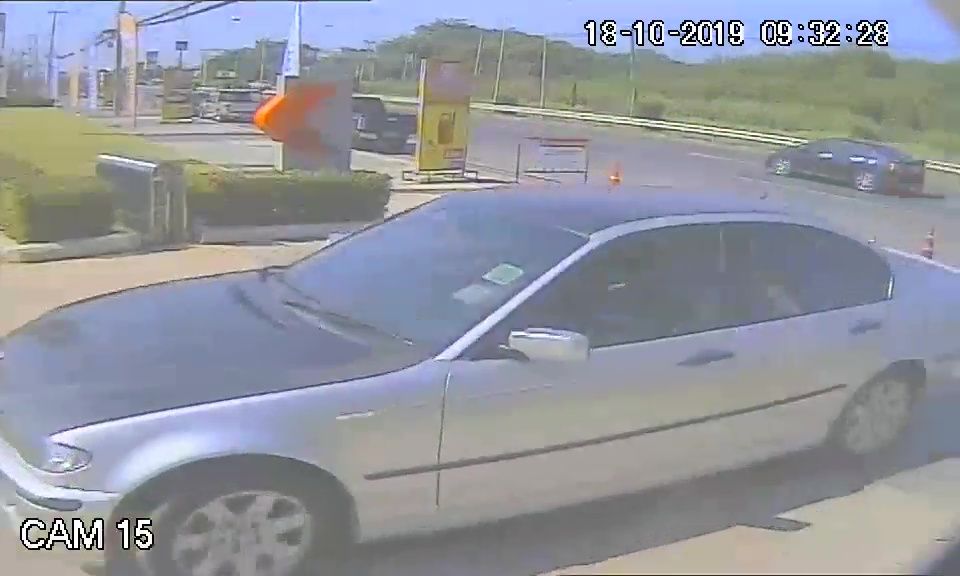sedan: (15, 187, 939, 559)
